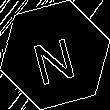N_N: (29, 26, 81, 84)
